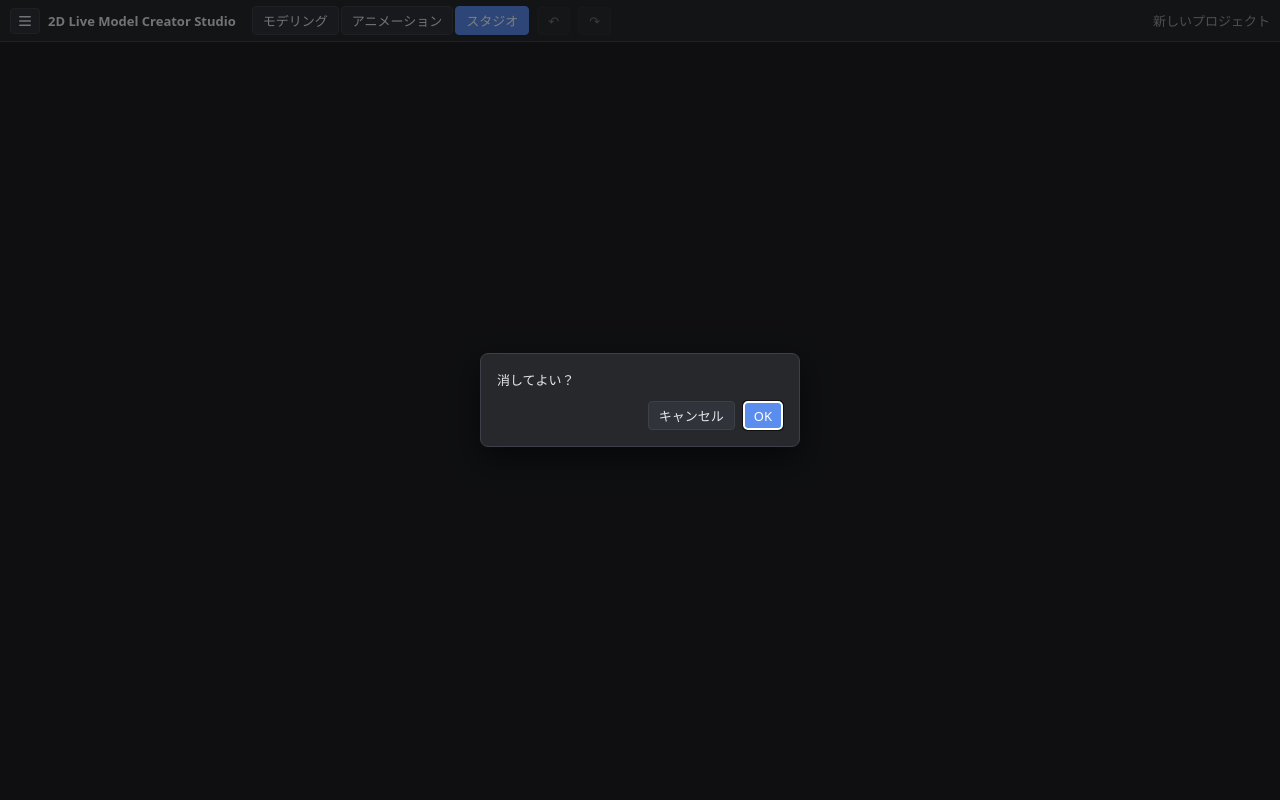
it: 環境設定とダイアログ › confirm・prompt・notify
Click the button "OK": (763, 416) [743,401,783,430]
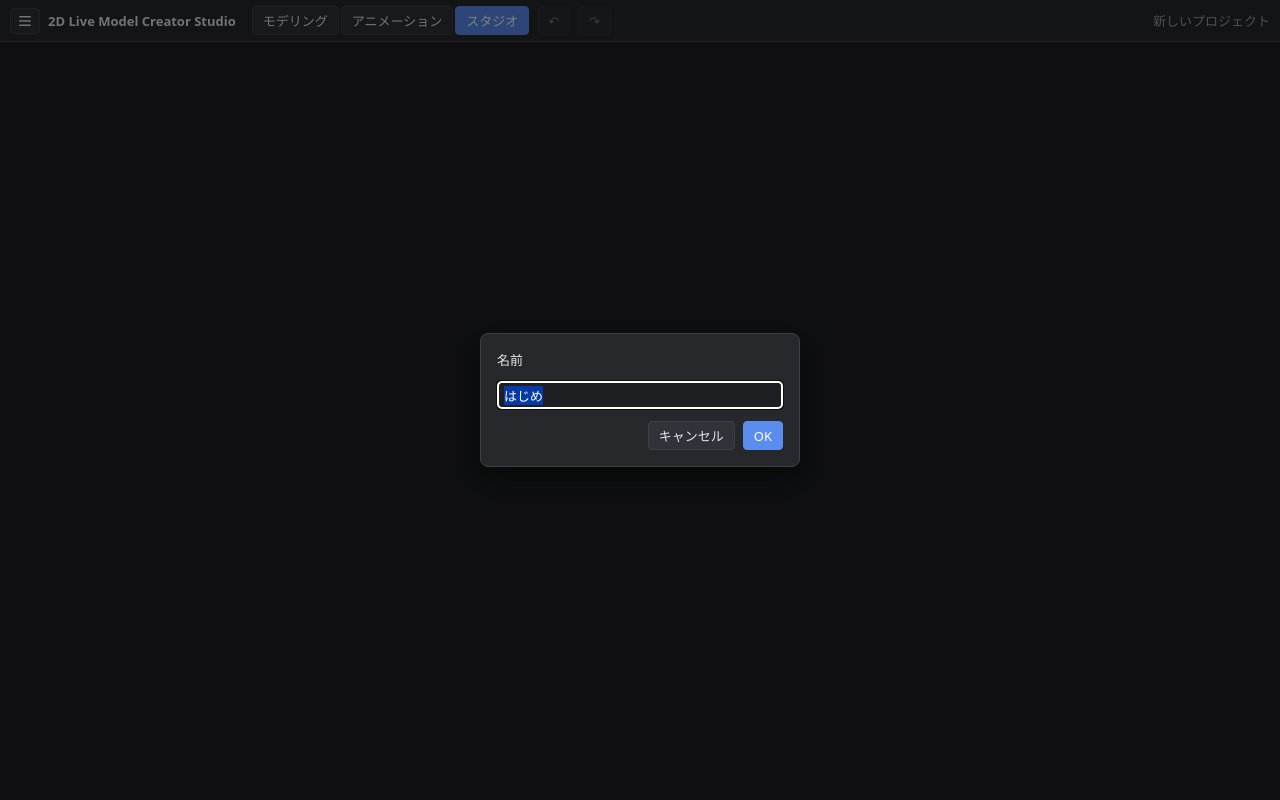
Replace the text in the field showing "はじめ" with "笑顔": (640, 395) [497,381,783,409]
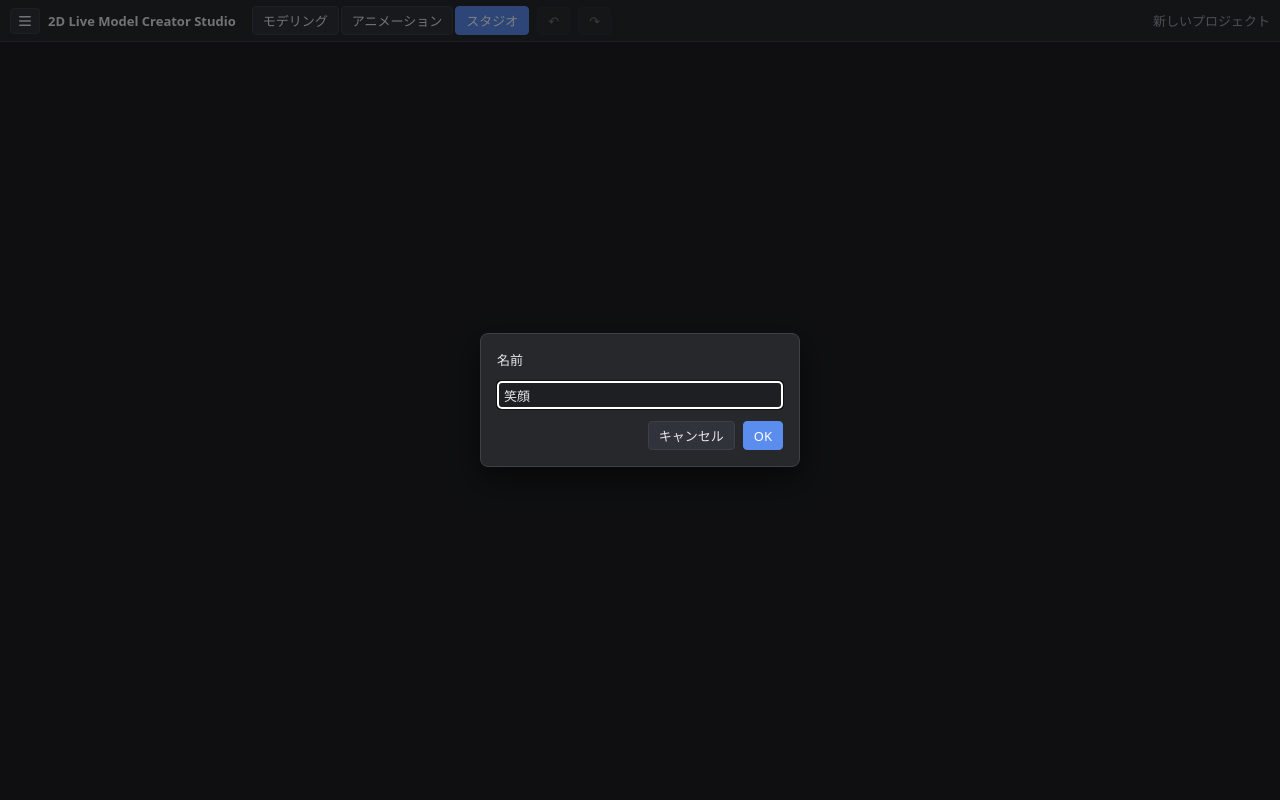
Click the button "OK": (763, 436) [743,421,783,450]
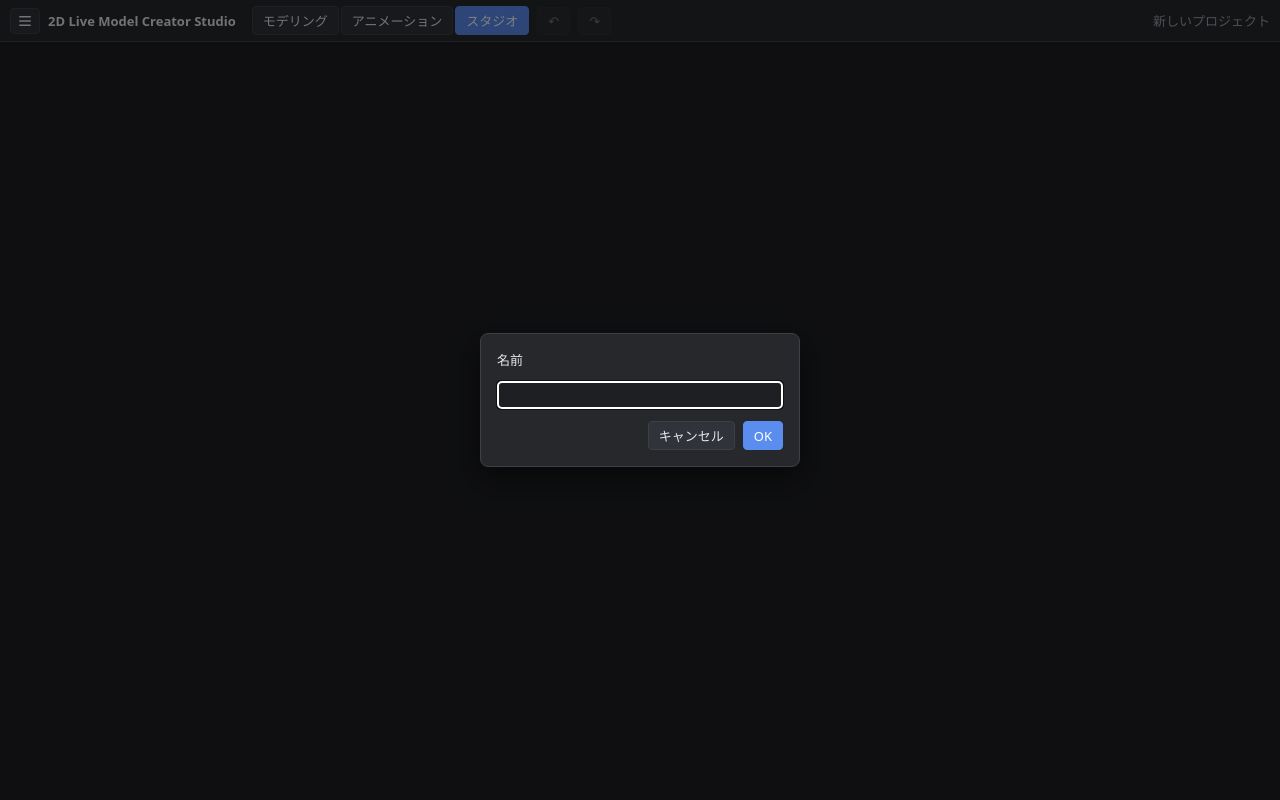
Click the button "キャンセル": (691, 436) [648,421,735,450]
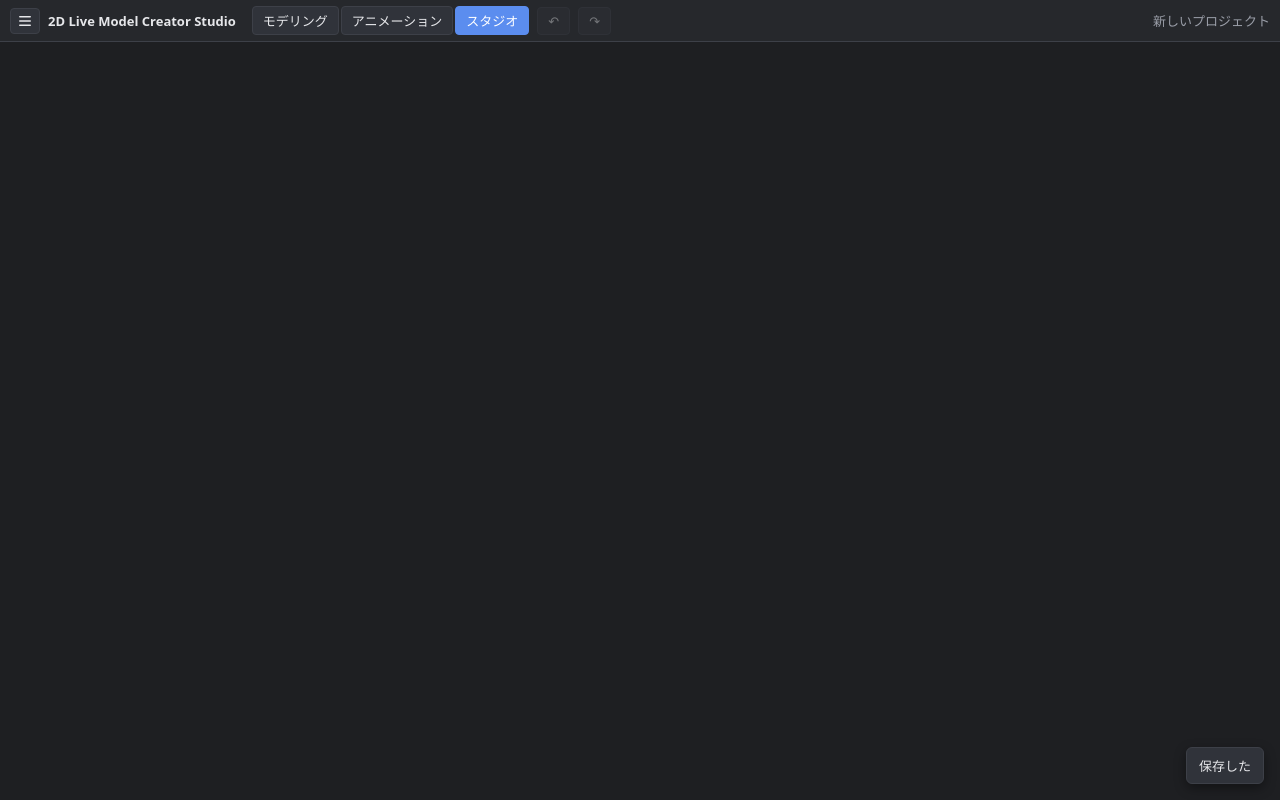
Now the text "保存した" is shown, box [1186,747,1264,784]
